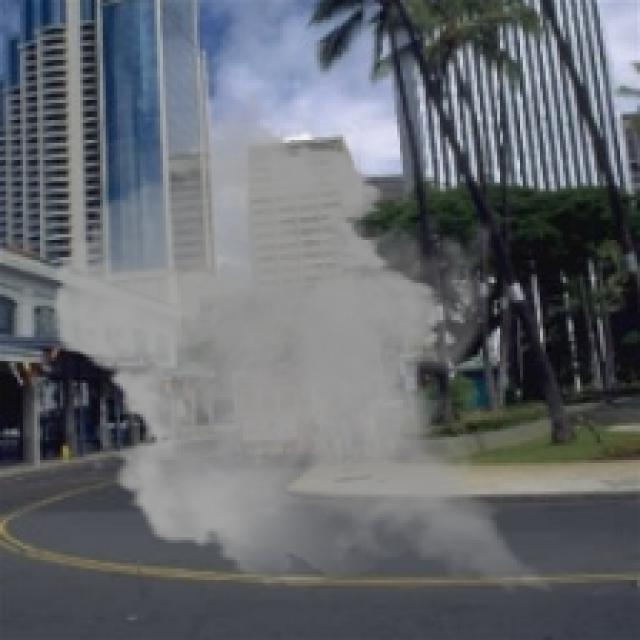smoke: (37, 89, 580, 606)
